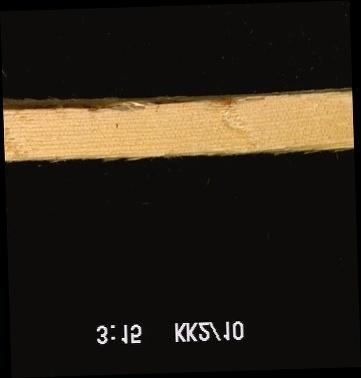wave: (2, 97, 260, 115)
